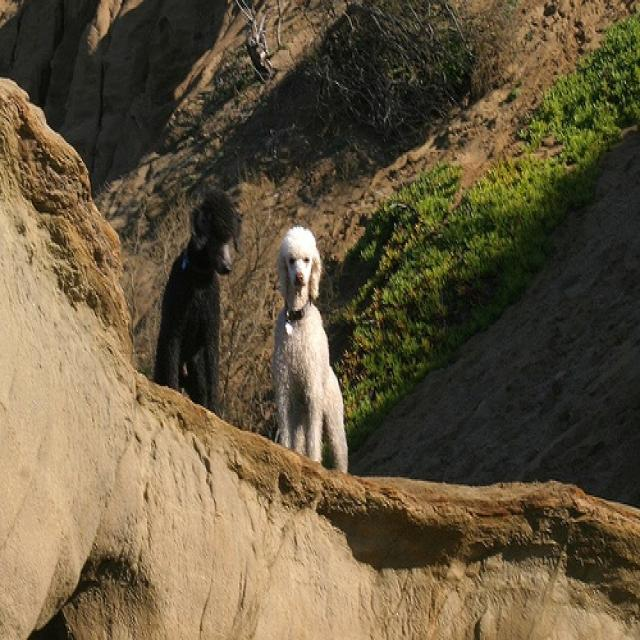dog: (272, 226, 352, 475), (155, 191, 241, 418)
